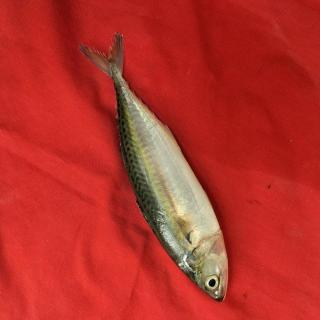Ikan: (70, 23, 250, 308)
